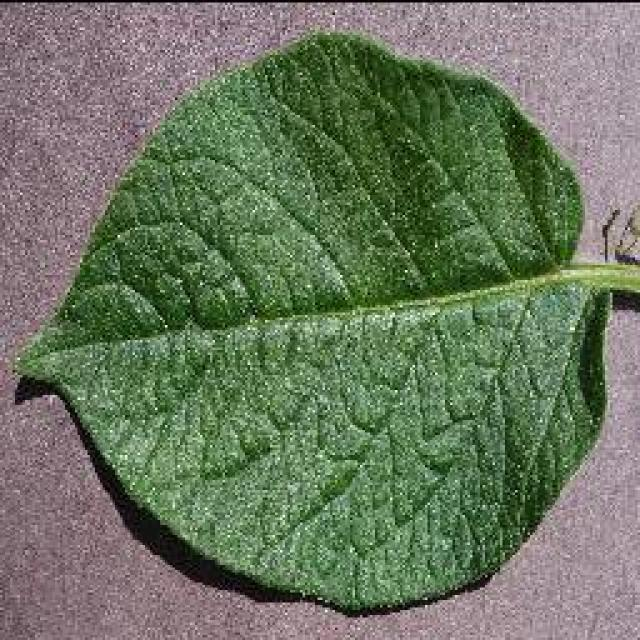Potato___healthy: (12, 28, 638, 618)
